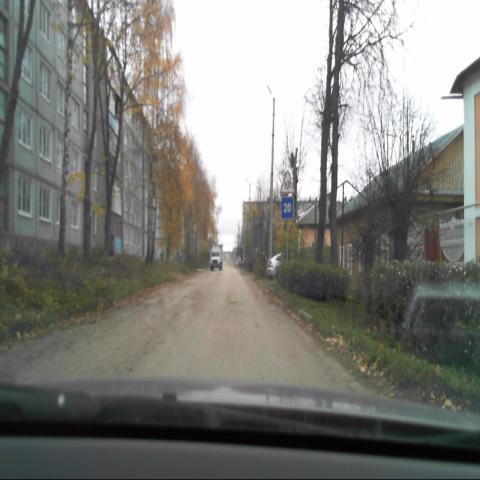6_2: (280, 197, 293, 218)
